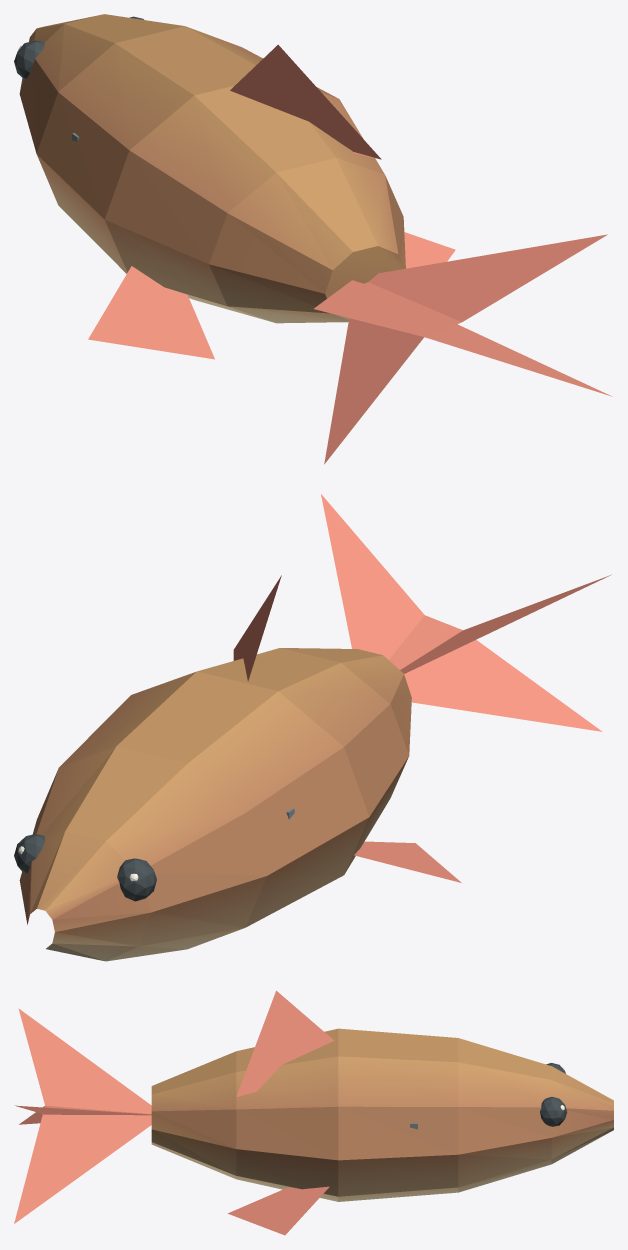
The model's file is fish_tropical.glb.
3 views of the same model, one above another, from view 1: azimuth 30°, elevation 25°; view 2: azimuth 150°, elevation 25°; view 3: azimuth 270°, elevation 25° (orthographic). The views are drawn at different scales.
Visible parts, largest first — view 1: Fish_Body, Tail_Fin_Swim_Pivot, Pectoral_Fin_-1, Dorsal_Fin, Pectoral_Fin_1, Eye_-1; view 2: Fish_Body, Tail_Fin_Swim_Pivot, Pectoral_Fin_-1, Dorsal_Fin, Eye_-1, Eye_1; view 3: Fish_Body, Tail_Fin_Swim_Pivot, Dorsal_Fin, Pectoral_Fin_1, Eye_1.
Part boxes in pixels (x1,y1,x2,y2): Fish_Body: [19, 14, 405, 323]; Tail_Fin_Swim_Pivot: [314, 234, 612, 464]; Pectoral_Fin_-1: [88, 266, 214, 359]; Dorsal_Fin: [230, 44, 381, 159]; Pectoral_Fin_1: [404, 232, 455, 268]; Eye_-1: [14, 40, 44, 79]; Fish_Body: [19, 648, 411, 961]; Tail_Fin_Swim_Pivot: [321, 494, 611, 731]; Pectoral_Fin_-1: [354, 841, 461, 882]; Dorsal_Fin: [233, 575, 281, 681]; Eye_-1: [117, 858, 156, 901]; Eye_1: [14, 834, 45, 874]; Fish_Body: [151, 1028, 613, 1201]; Tail_Fin_Swim_Pivot: [14, 1008, 151, 1223]; Dorsal_Fin: [236, 990, 334, 1096]; Pectoral_Fin_1: [227, 1186, 329, 1235]; Eye_1: [540, 1097, 567, 1126].
Size of the model in its own units: 0.68 by 0.4907 by 1.35.
